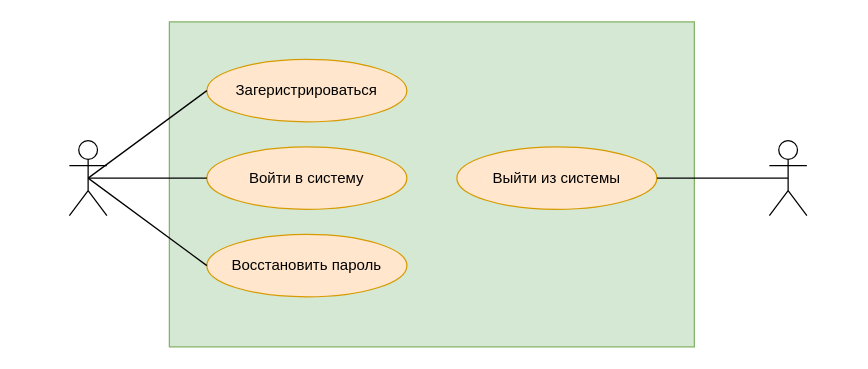
Some shapes in this 868 by 369 pixel diagram are drawn without their labels. Here are the shapes that lost their labels. From the top down, the centre of each, then its label:
the point at 87,177: Неавторизованный пользователь
the point at 787,177: Авторизованный пользователь
